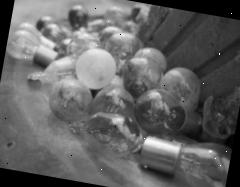lightbulb: (0, 0, 240, 187), (133, 129, 231, 187), (64, 104, 146, 162), (71, 44, 119, 92)
